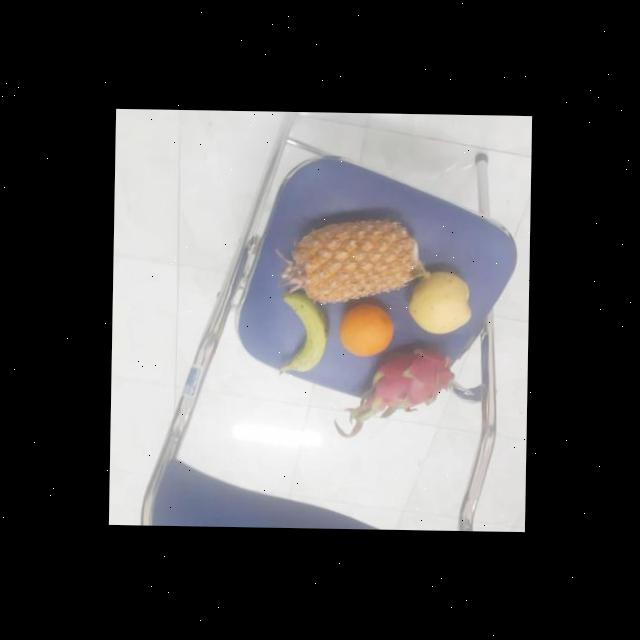orange: (336, 299, 396, 357)
pear: (406, 268, 474, 334)
pineapple: (281, 216, 424, 306)
pitaya: (360, 342, 450, 411)
